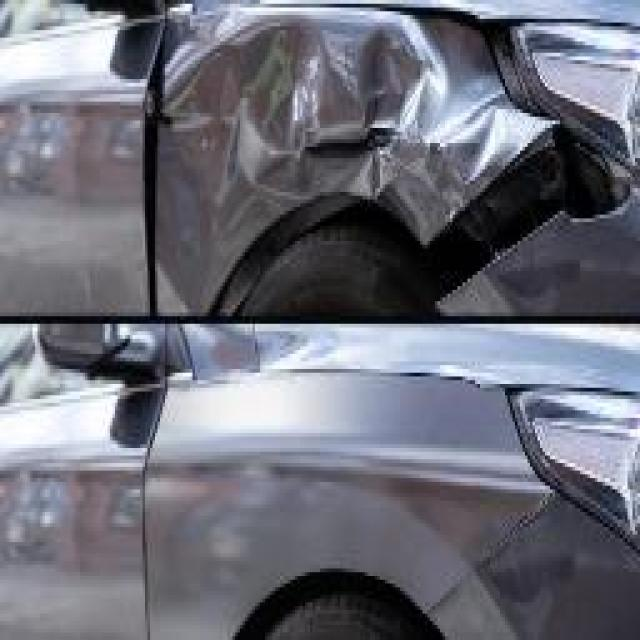Fender: (162, 8, 518, 256)
